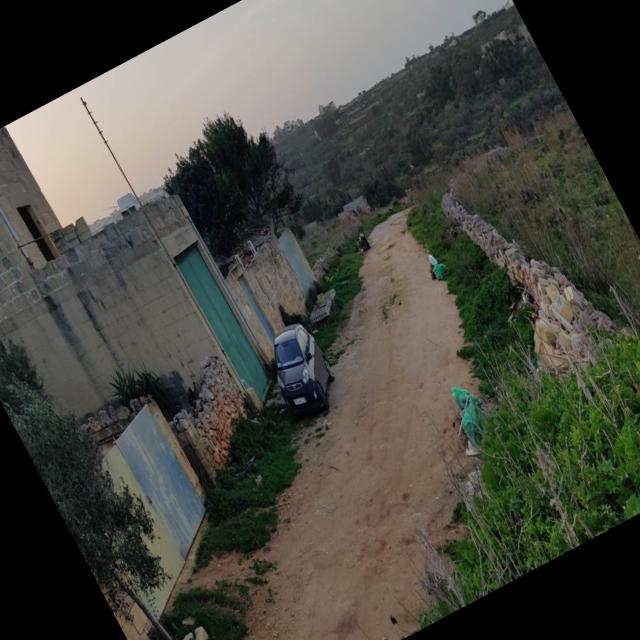Other litter: (358, 228, 372, 251), (429, 263, 434, 279)
Other plastic: (428, 253, 438, 265)
Plastic bag - wrapper: (451, 382, 482, 460), (434, 262, 450, 280), (356, 235, 362, 249)
